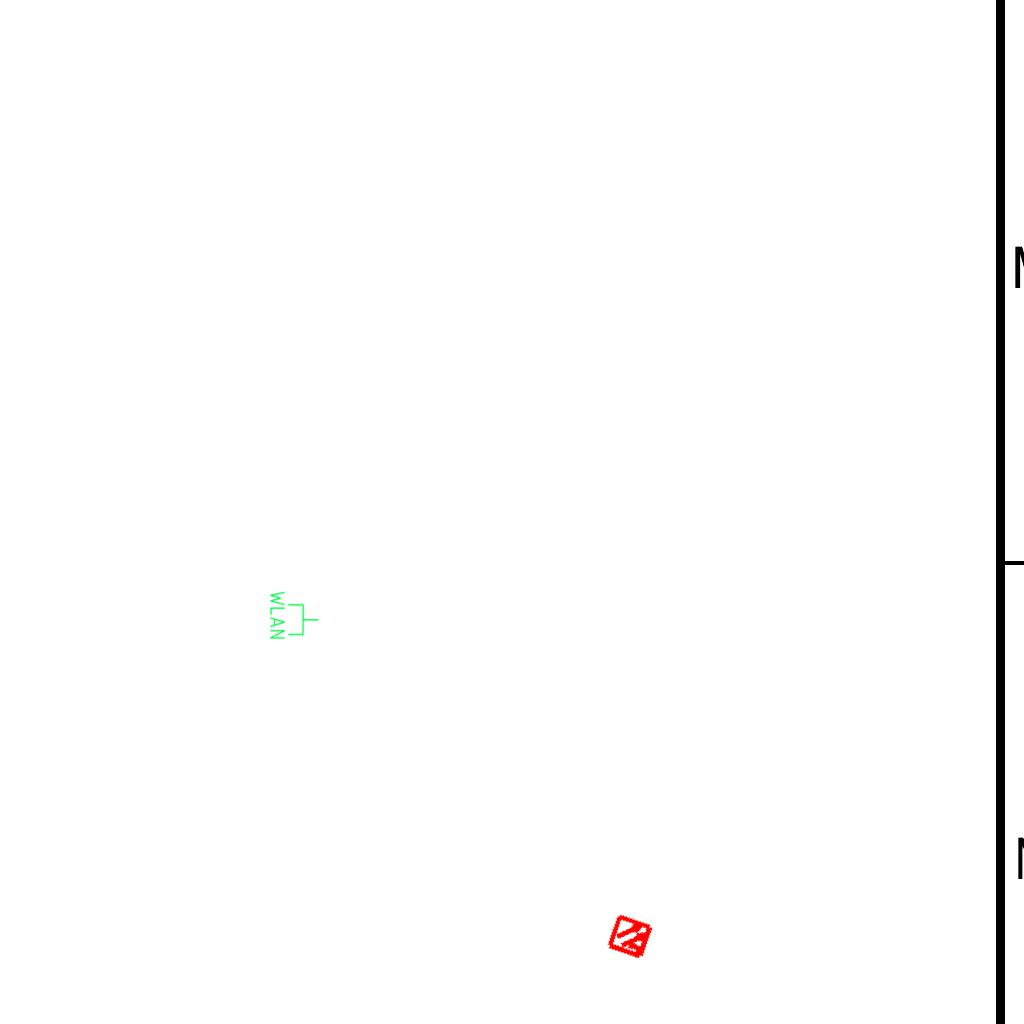OT_Multisensormelder_(Kombination_RMO_WMD): (595, 901, 667, 973)
WLAN: (268, 589, 320, 641)
